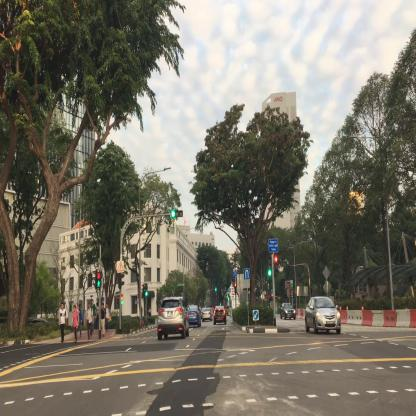green_traffic_light: (268, 257, 272, 276), (171, 210, 183, 216), (145, 283, 147, 296)
